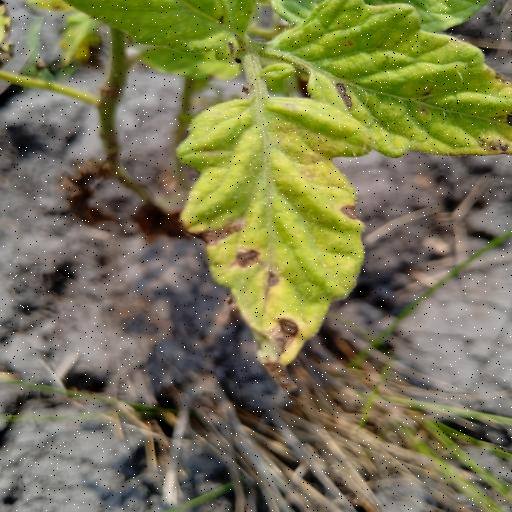Tomato_Brown_Spots: (176, 88, 376, 392), (260, 0, 512, 159)
